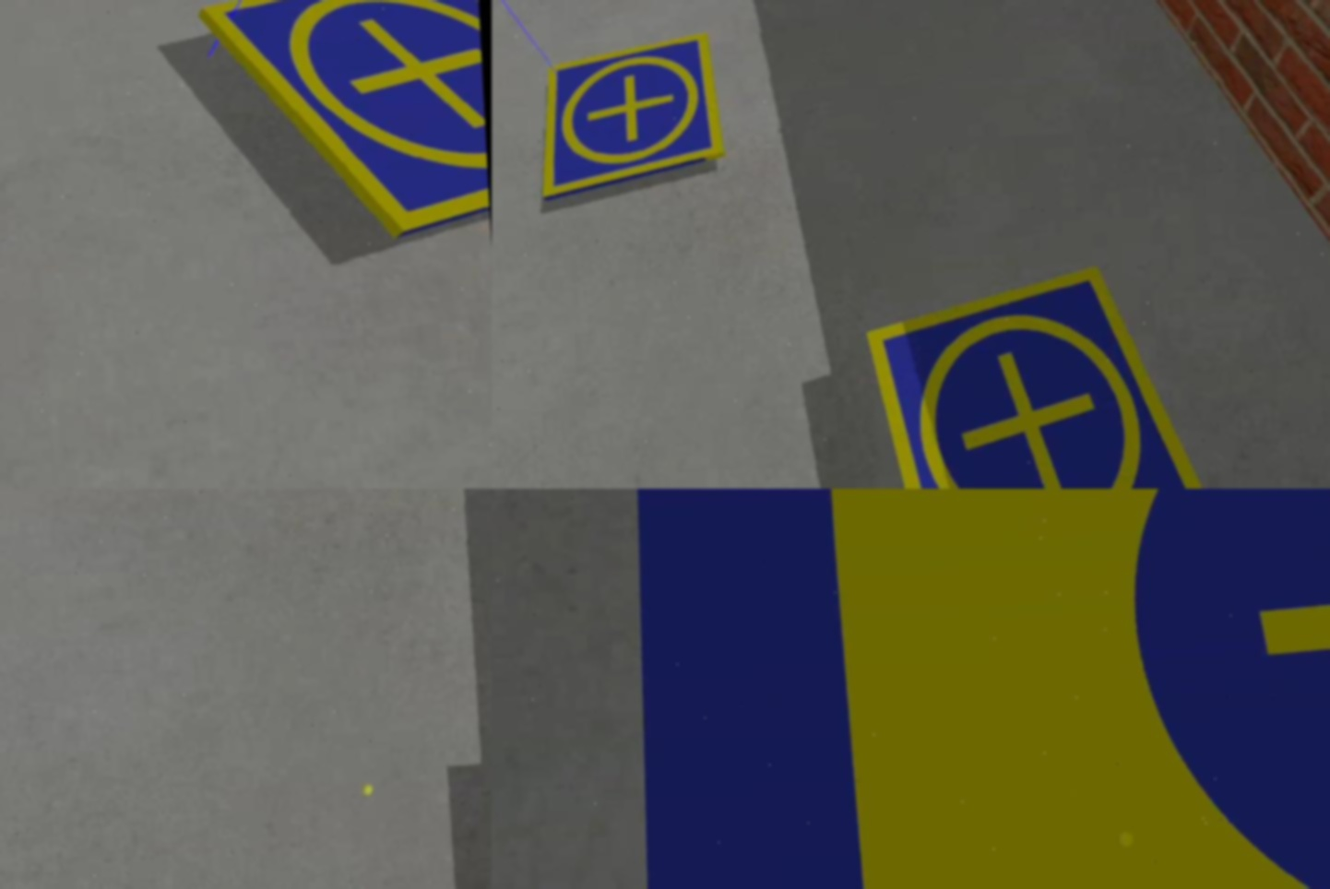large_base: (627, 490, 1330, 889)
small_base: (861, 258, 1208, 490), (196, 1, 493, 245), (532, 30, 730, 206)
